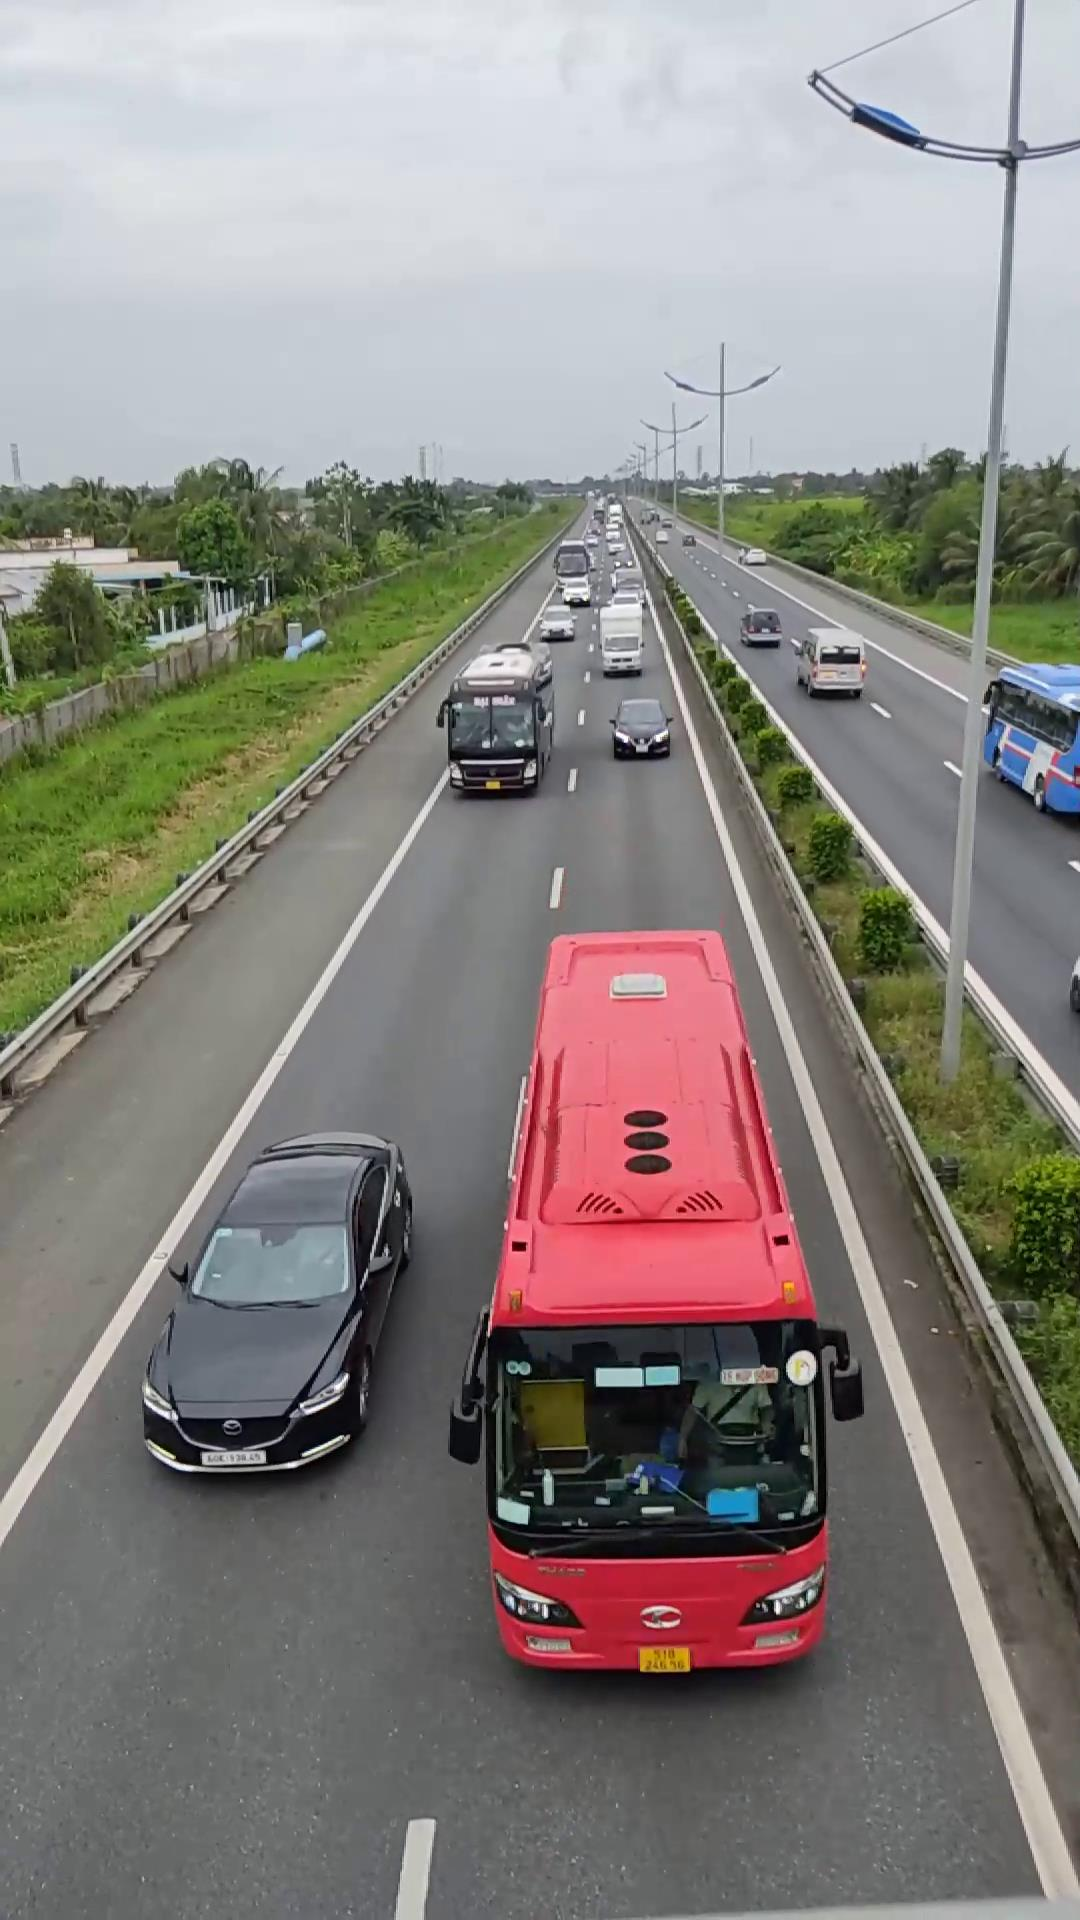bus: (452, 927, 855, 1679), (443, 646, 555, 795)
car: (137, 1131, 415, 1476), (791, 622, 868, 698)
truck: (981, 659, 1077, 818)
